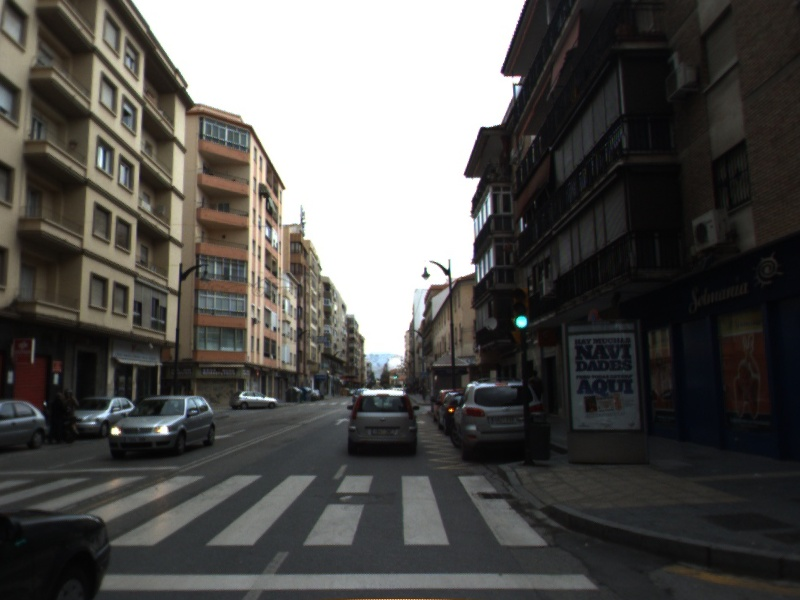STRAIGHT: (333, 416, 351, 427)
